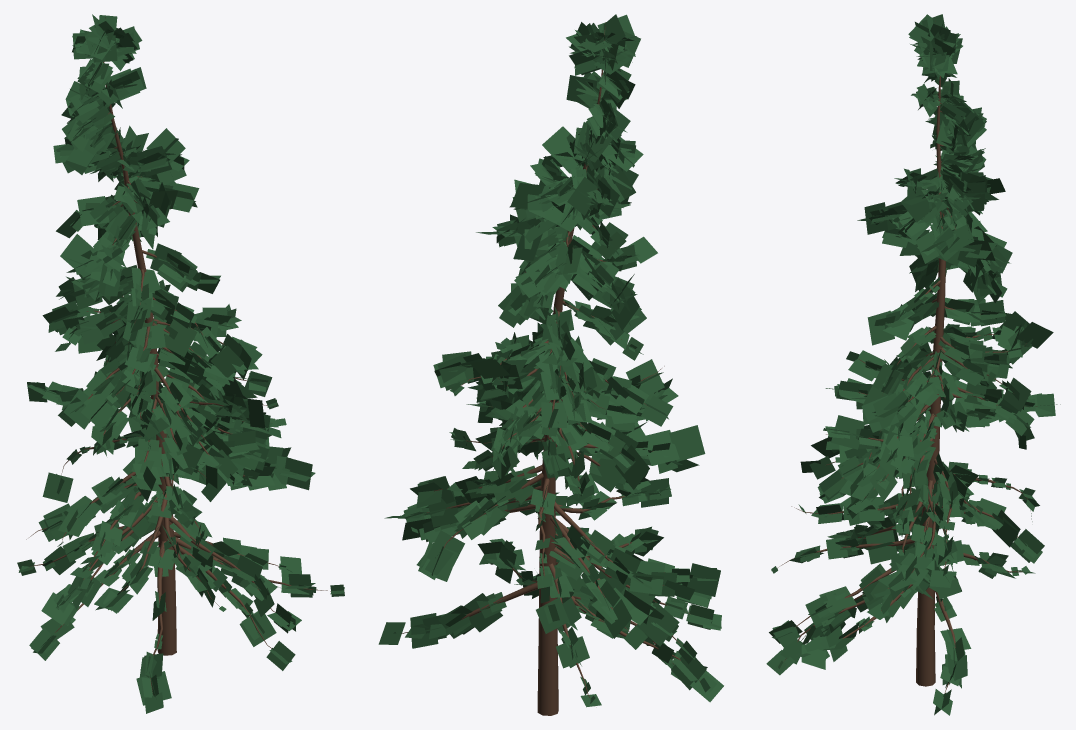
File: meadow-pine-b.glb
3 views of the same model, side by side, from view 1: azimuth 30°, elevation 25°; view 2: azimuth 150°, elevation 25°; view 3: azimuth 270°, elevation 25° (orthographic). The views are drawn at different scales.
Visible parts, largest first — view 1: leaves, bark; view 2: leaves, bark; view 3: leaves, bark.
Part boxes in pixels (x1,y1,x2,y2): leaves: [17, 14, 344, 713]; bark: [26, 17, 330, 694]; leaves: [378, 14, 723, 707]; bark: [401, 22, 699, 715]; leaves: [766, 14, 1060, 715]; bark: [778, 21, 1037, 693].
Bounding box in the file's own units: 18.63 × 39.4 × 16.53.
